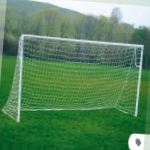goals: (1, 32, 145, 124)
